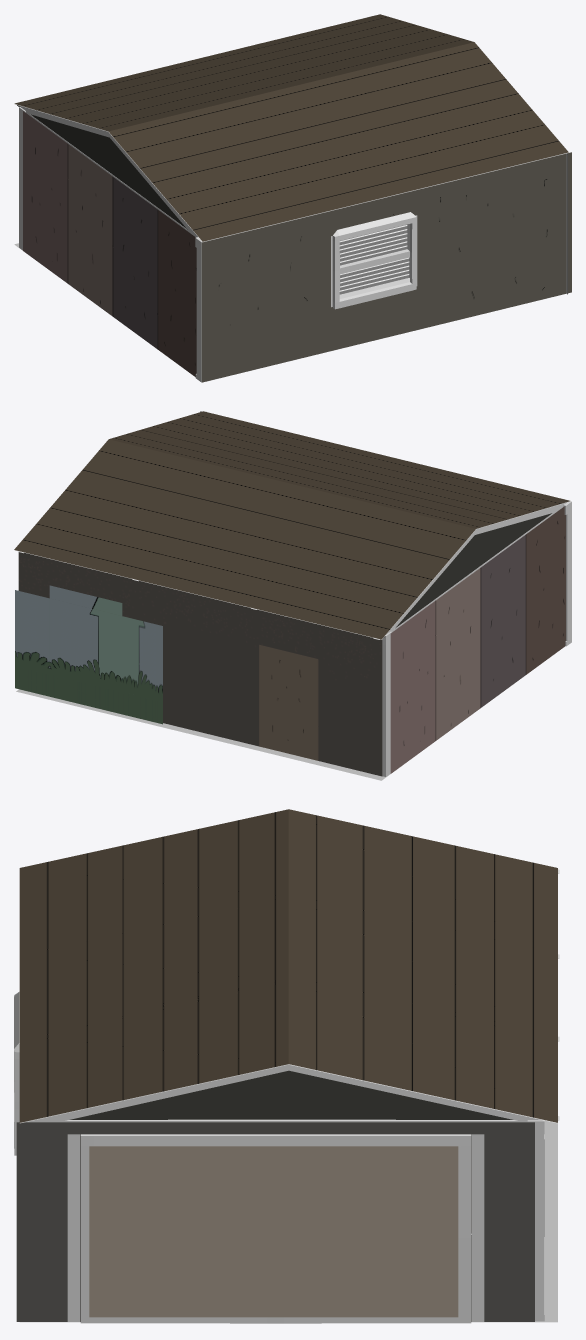
File: Rick and Morty Garage (Fan Art).fbx
3 views of the same model, one above another, from view 1: azimuth 30°, elevation 25°; view 2: azimuth 150°, elevation 25°; view 3: azimuth 270°, elevation 25° (orthographic). The views are drawn at different scales.
Visible parts, largest first — view 1: Ceiling, Wall, Wood.001, Wood; view 2: Ceiling, Wall, Background, Floor, Wood, Wood.001; view 3: Ceiling, Wall, Wood.001, Floor, Wood.
Part boxes in pixels (x1,y1,x2,y2): Ceiling: (14, 14, 568, 241); Wall: (23, 111, 571, 382); Wood.001: (195, 153, 563, 382); Wood: (19, 107, 25, 250); Ceiling: (14, 411, 569, 639); Wall: (18, 411, 565, 776); Background: (15, 585, 162, 724); Floor: (16, 689, 390, 780); Wood: (382, 631, 391, 776); Wood.001: (563, 501, 571, 646); Ceiling: (19, 809, 559, 1123); Wall: (16, 1122, 534, 1323); Wood.001: (14, 867, 484, 1321); Floor: (20, 1121, 557, 1322); Wood: (527, 1120, 544, 1321).
Size of the model in its own units: 941 by 443 by 860.
